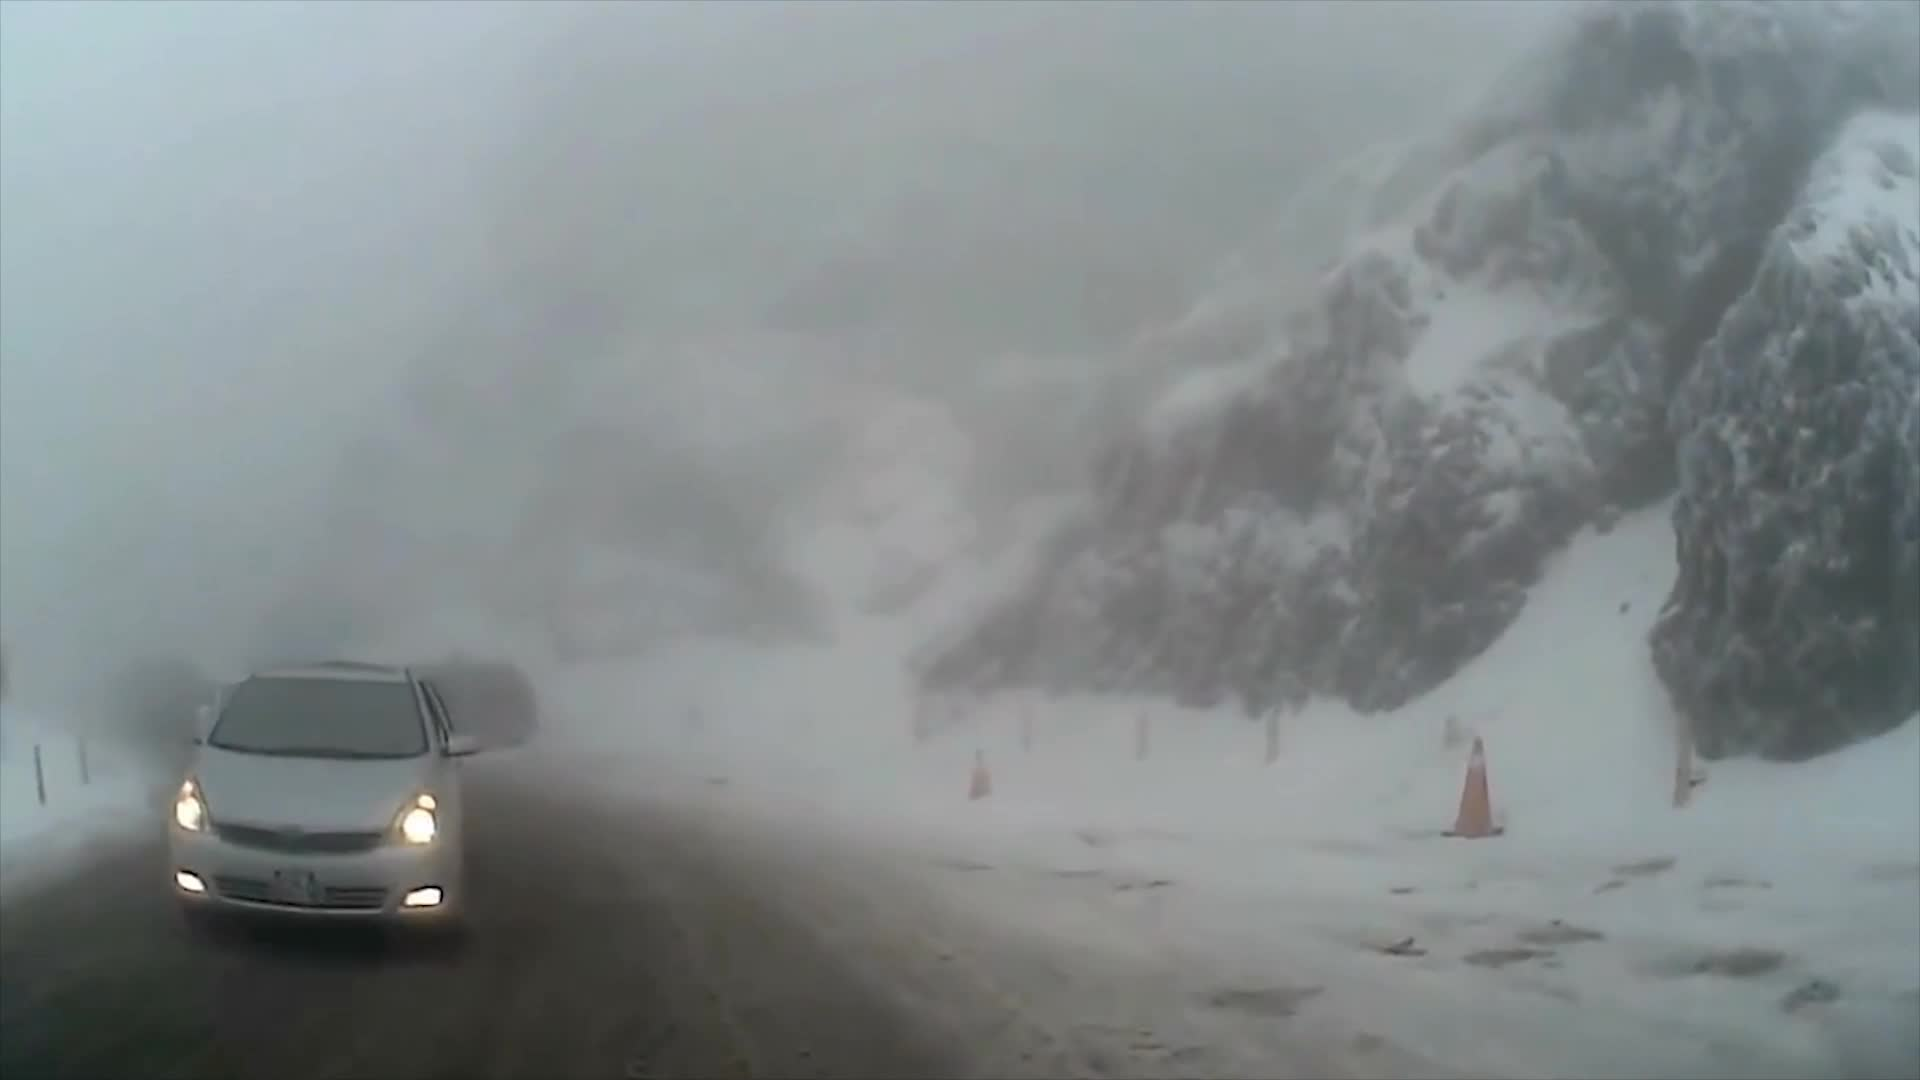vehicle: (164, 659, 481, 953)
